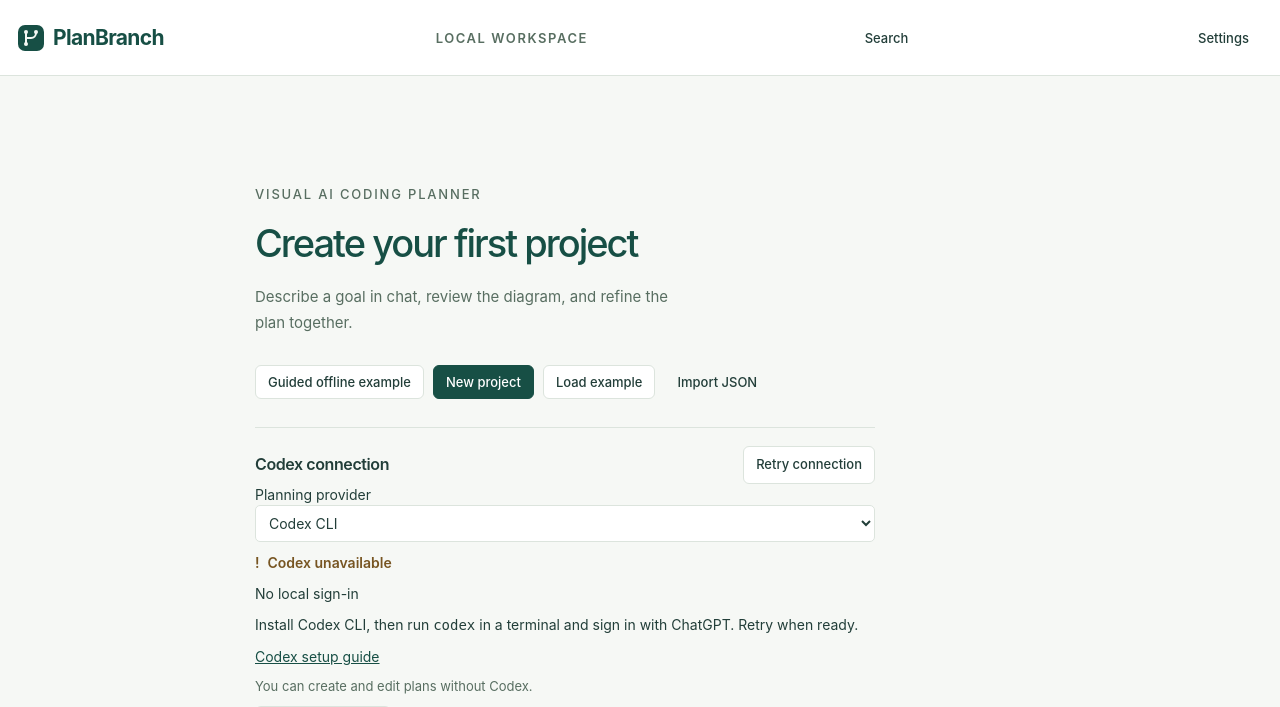
Scenario: first-run manual planning › keeps New project reachable while Codex is unavailable
Expected: the text "Codex unavailable" is shown, [268, 554, 392, 570]
Step 1. Click the button "New project" → [483, 382], box [433, 365, 534, 399]
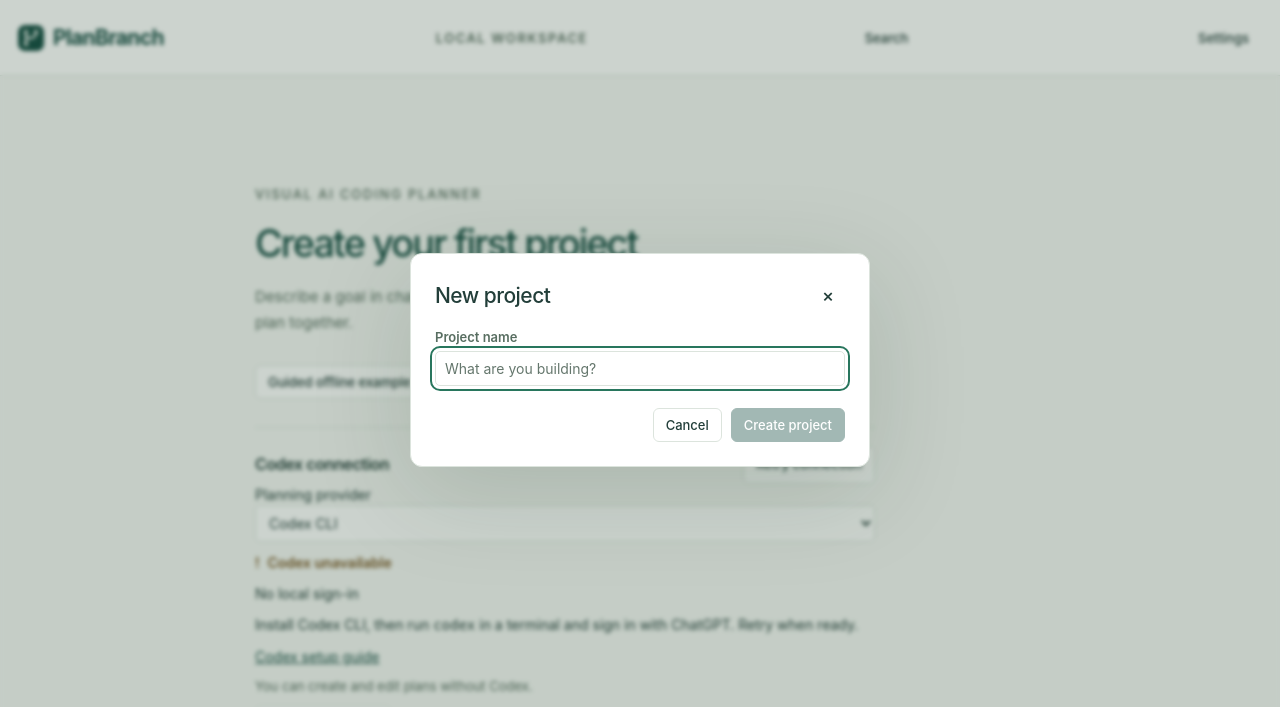
Step 2. Type "A manual plan" into the field → [640, 368], box [435, 351, 845, 386]
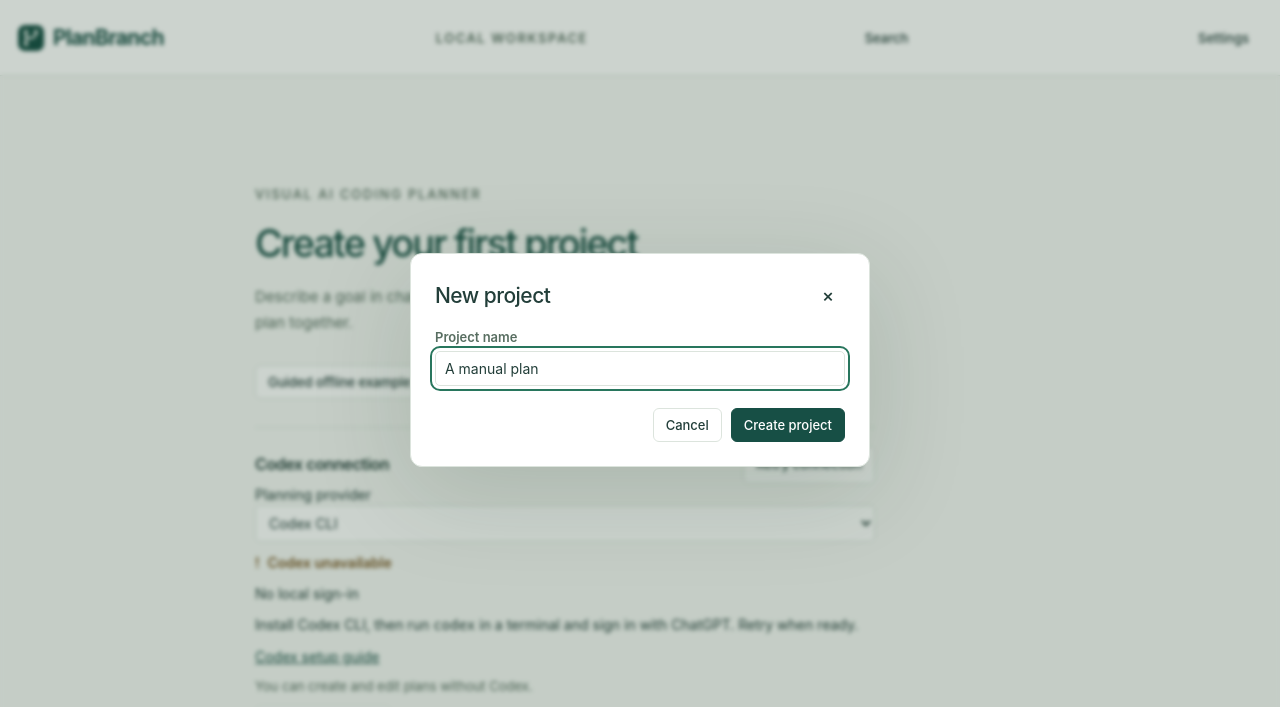
Now the button "Create project" is enabled, box [731, 408, 845, 442]
